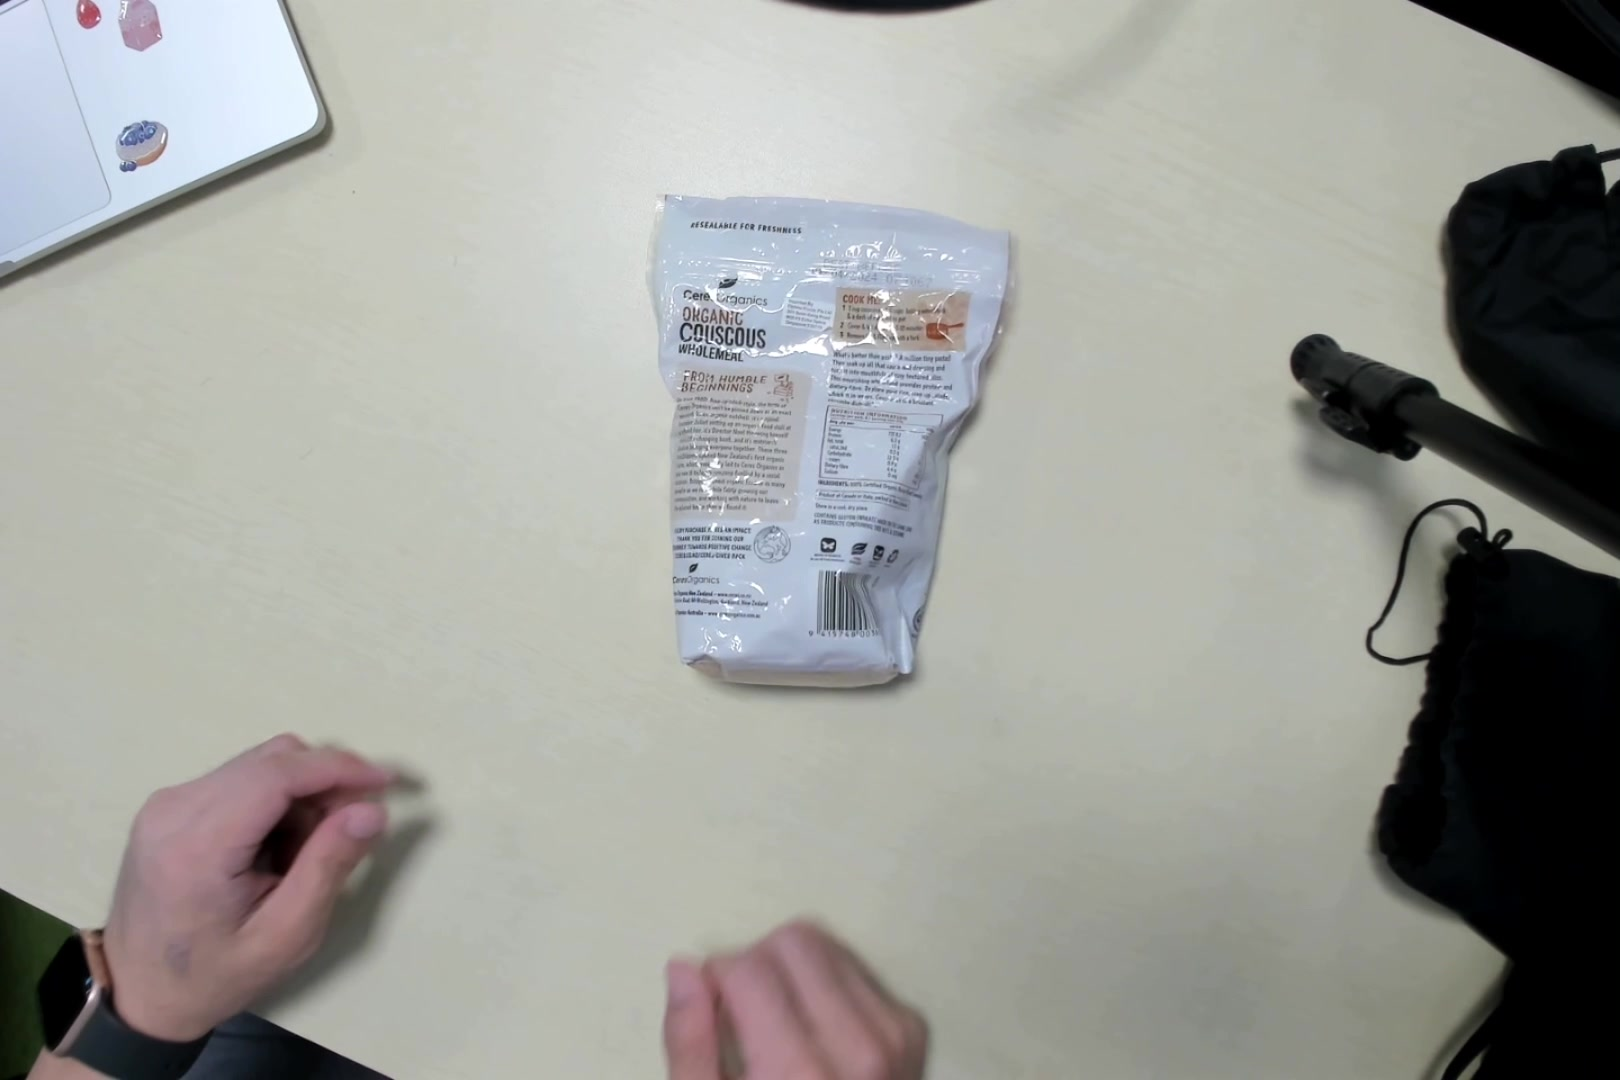Rice(BrownOthers)_300-399g_NonHalal_NonHealthy: (648, 190, 1015, 695)
